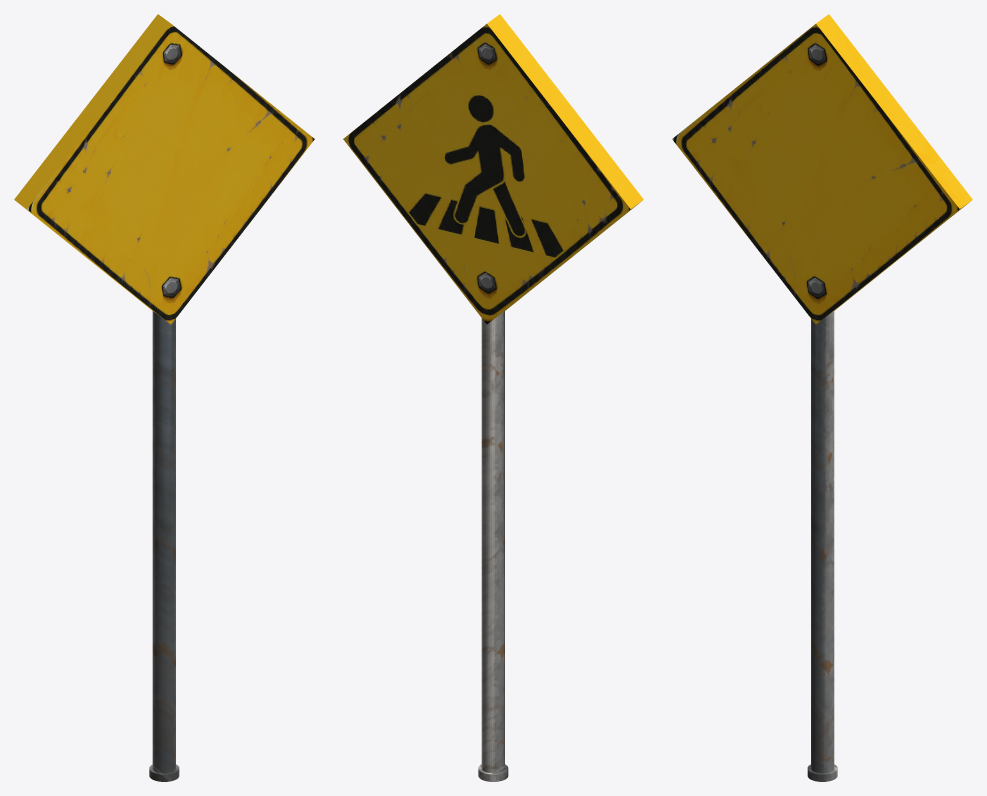
Rendered from yaya geçidi tabelası.fbx.
3 views of the same model, side by side, from view 1: azimuth 30°, elevation 25°; view 2: azimuth 150°, elevation 25°; view 3: azimuth 330°, elevation 25° (orthographic).
Visible parts, largest first — view 1: Plane; view 2: Plane; view 3: Plane.
Part boxes in pixels (box(x1,y1,x2,y2)): Plane: box(14, 14, 314, 781); Plane: box(343, 14, 643, 781); Plane: box(672, 14, 972, 781).
Size of the model in its own units: 134 by 337 by 12.19.
Materials: 1 (1 with a texture image).
